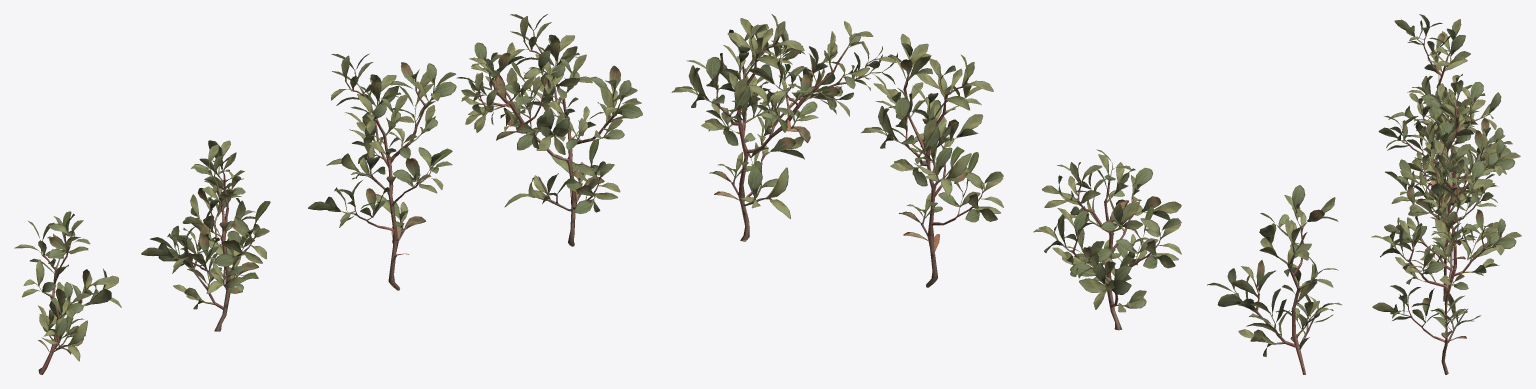
Rendered from shrub_04.glb.
3 views of the same model, side by side, from view 1: azimuth 30°, elevation 25°; view 2: azimuth 150°, elevation 25°; view 3: azimuth 270°, elevation 25° (orthographic). The views are drawn at different scales.
Parts seen in each view (by area): view 1: shrub_04; view 2: shrub_04; view 3: shrub_04.
Part boxes in pixels (x1,y1,x2,y2): shrub_04: (14,14,642,374); shrub_04: (671,14,1341,374); shrub_04: (1371,14,1521,374).
Size of the model in its own units: 0.5837 by 0.2192 by 0.146.
Materials: 1 (1 with a texture image).
